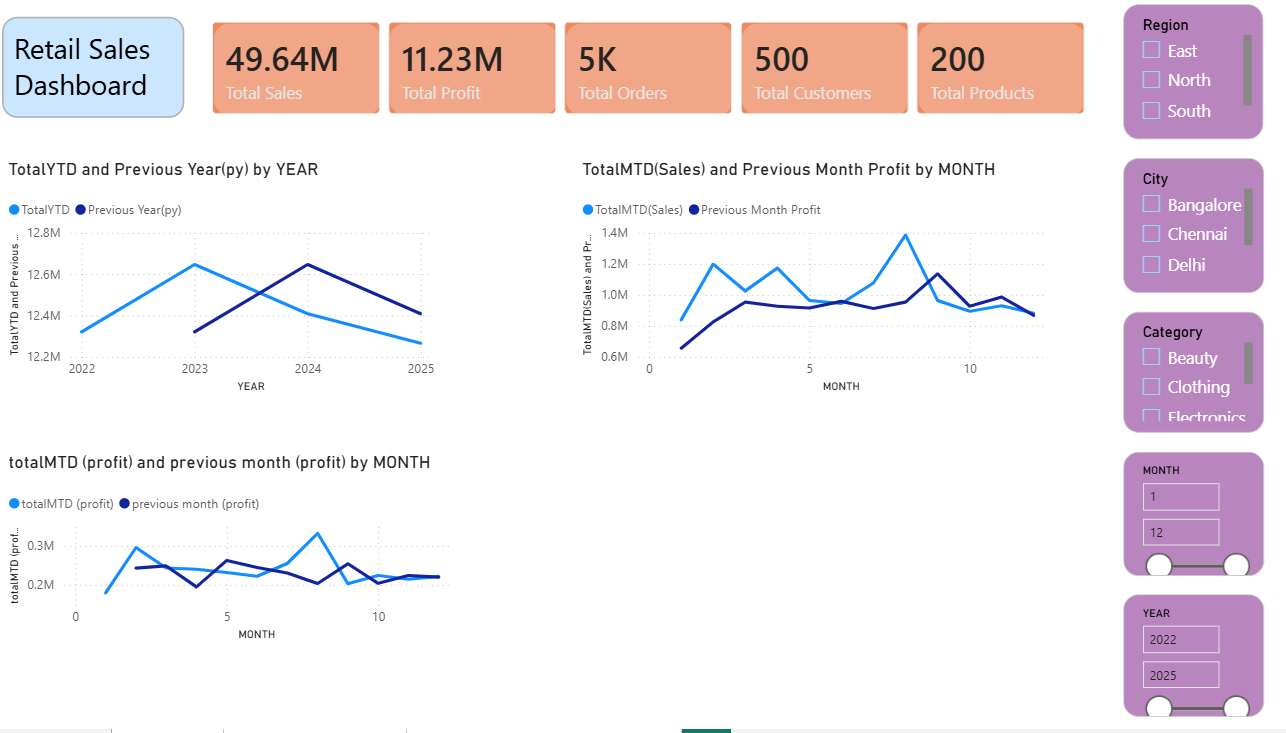

Layout of this report page (visuals, bound fields, positions):
{"tool":"powerbi","page":{"name":"Duplicate of Time Series Analysis","canvas":[1280,720],"ordinal":2},"visuals":[{"type":"slicer","fields":{"Values":["Dim Customer.Region"]},"box":[1106.2,20,135,130],"z":0},{"type":"slicer","fields":{"Values":["Dim Product.Category"]},"box":[1105.7,317.1,135.7,117.1],"z":1000},{"type":"slicer","fields":{"Values":["Dim Calender.MONTH"]},"box":[1105.7,452.9,135.7,120],"z":2000},{"type":"slicer","fields":{"Values":["Dim Calender.YEAR"]},"box":[1105.7,590,135.7,118.6],"z":3000},{"type":"slicer","fields":{"Values":["Dim Customer.City"]},"box":[1105.7,168.6,135.7,130],"z":4000},{"type":"textbox","box":[24.7,32.9,175.6,97.4],"z":5000},{"type":"cardVisual","fields":{"Data":["Fact Sales.Total Sales","Fact Sales.Total Profit","Fact Sales.Total Orders","Fact Sales.Total Customers","Fact Sales.Total Products"]},"box":[209.9,20.6,876.8,123.5],"z":6000},{"type":"lineChart","fields":{"Category":["Dim Calender.YEAR"],"Y":["Fact Sales.TotalYTD","Fact Sales.Previous Year(py)"]},"box":[25.3,168.9,421,231.6],"z":6001},{"type":"lineChart","fields":{"Category":["Dim Calender.MONTH"],"Y":["Fact Sales.TotalMTD(Sales)","Fact Sales.Previous Month Profit"]},"box":[579.1,168.9,456,231.6],"z":6002},{"type":"lineChart","fields":{"Category":["Dim Calender.MONTH"],"Y":["Dim Calender.totalMTD (profit)","Dim Calender.previous month (profit)"]},"box":[25.3,452.4,435.5,187],"z":6003}]}

Visuals, with their boxes in screenshot pixels (x1, y1, x2, y2), scaled from the page's 1280x720 canvas onto the 1286x733 screenshot:
slicer - Dim Customer.Region: [1111,20,1247,153]
slicer - Dim Product.Category: [1111,323,1247,442]
slicer - Dim Calender.MONTH: [1111,461,1247,583]
slicer - Dim Calender.YEAR: [1111,601,1247,721]
slicer - Dim Customer.City: [1111,172,1247,304]
textbox: [25,33,201,133]
cardVisual - Fact Sales.Total Sales x Fact Sales.Total Profit: [211,21,1092,147]
lineChart - Dim Calender.YEAR x Fact Sales.TotalYTD: [25,172,448,408]
lineChart - Dim Calender.MONTH x Fact Sales.TotalMTD(Sales): [582,172,1040,408]
lineChart - Dim Calender.MONTH x Dim Calender.totalMTD (profit): [25,461,463,651]
